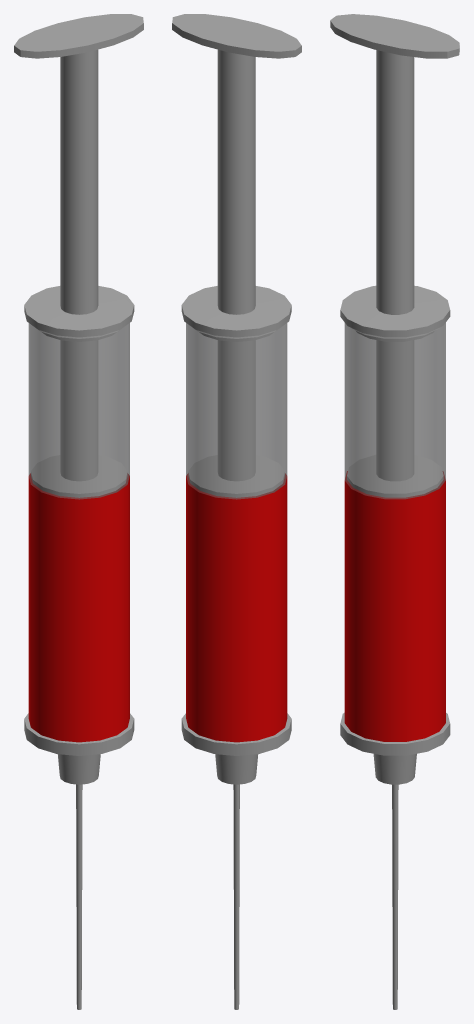
File: Seringe.fbx
3 renders of one model, left to right at view 1: azimuth 30°, elevation 25°; view 2: azimuth 150°, elevation 25°; view 3: azimuth 330°, elevation 25°, orthographic.
Visible parts, largest first — view 1: Seringe, Seringe_pin; view 2: Seringe, Seringe_pin; view 3: Seringe, Seringe_pin.
Part boxes in pixels (left/top/right/bottom): Seringe: left=24, top=286, right=134, bottom=1009; Seringe_pin: left=14, top=14, right=143, bottom=497; Seringe: left=181, top=286, right=291, bottom=1009; Seringe_pin: left=172, top=14, right=301, bottom=497; Seringe: left=340, top=285, right=450, bottom=1009; Seringe_pin: left=330, top=14, right=459, bottom=497.
Size of the model in its own units: 4.5 by 33.38 by 3.41.
